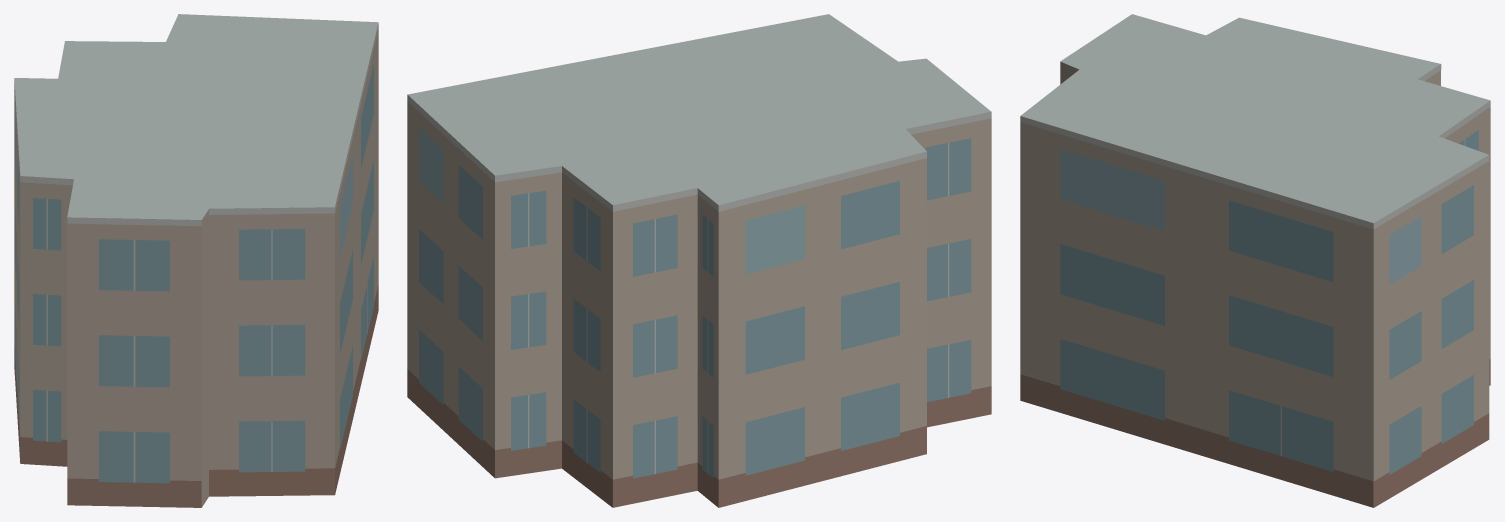
File: survey-upis-32836411.glb
The picture shows the model from 3 angles, left to right: view 1: azimuth 30°, elevation 25°; view 2: azimuth 150°, elevation 25°; view 3: azimuth 270°, elevation 25°; orthographic projection. The views are drawn at different scales.
Visible parts, largest first — view 1: survey-upis-32836411.tmp; view 2: survey-upis-32836411.tmp; view 3: survey-upis-32836411.tmp.
Boxes of the visible parts, x1,y1,x2,y2 form: survey-upis-32836411.tmp: [14, 14, 378, 507]; survey-upis-32836411.tmp: [407, 14, 991, 507]; survey-upis-32836411.tmp: [1020, 14, 1490, 507].
Bounding box in the file's own units: 17.82 × 11.3 × 16.93.
